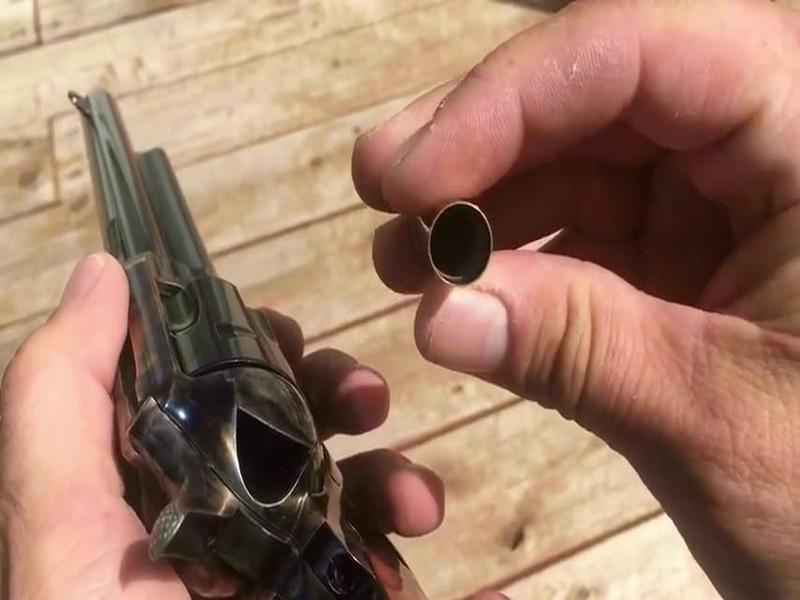Revolver: (43, 84, 347, 600)
